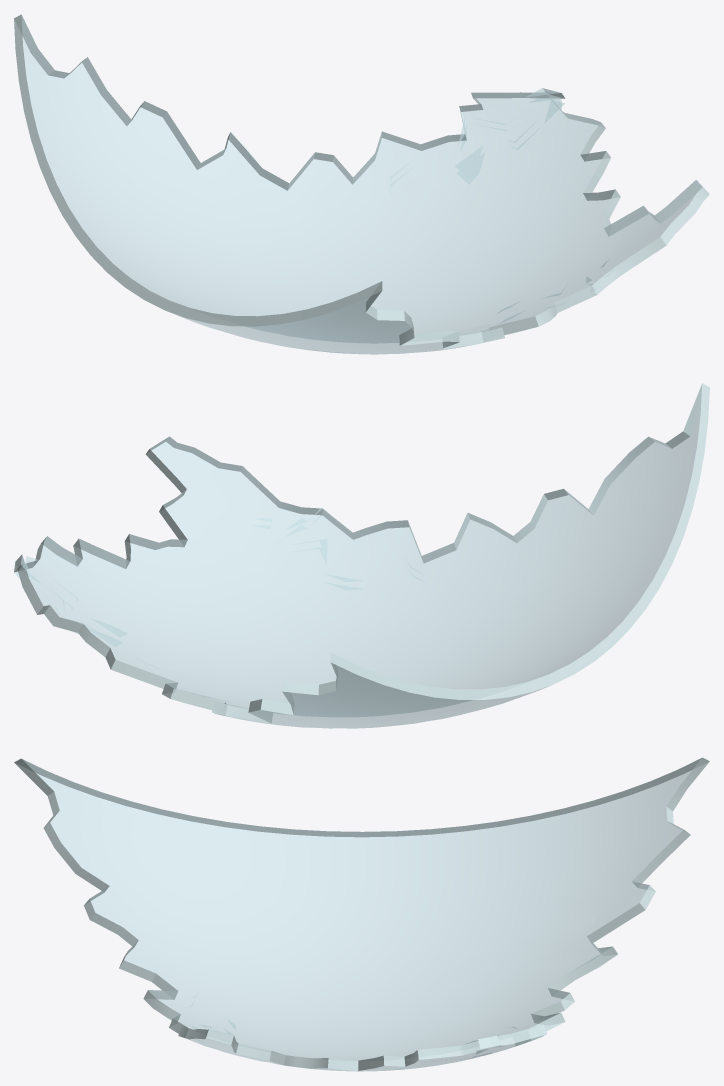
File: SM_DomeShard_6.fbx
The picture shows the model from 3 angles, top to bottom: view 1: azimuth 30°, elevation 25°; view 2: azimuth 150°, elevation 25°; view 3: azimuth 270°, elevation 25°; orthographic projection. The views are drawn at different scales.
Parts seen in each view (by area): view 1: SM_DomeShard_6; view 2: SM_DomeShard_6; view 3: SM_DomeShard_6.
Part boxes in pixels (<box>): SM_DomeShard_6: <box>14,14,709,354</box>; SM_DomeShard_6: <box>14,383,709,728</box>; SM_DomeShard_6: <box>14,757,709,1071</box>.
Size of the model in its own units: 1.07 by 0.4023 by 1.34.
